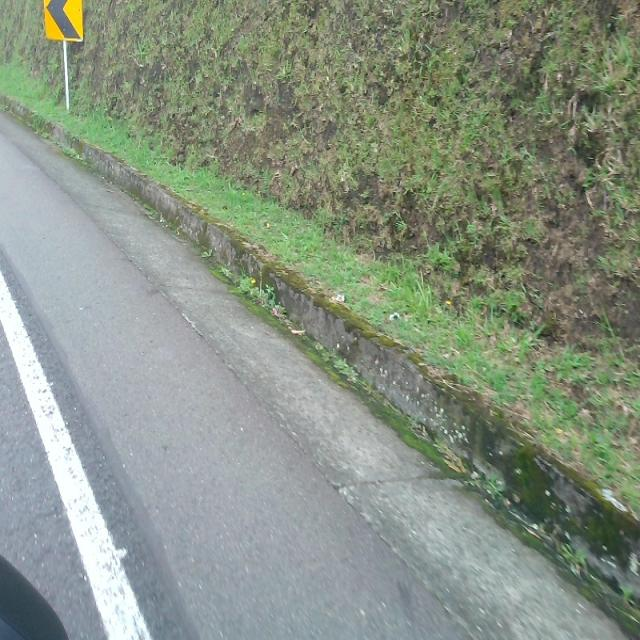DITCH: (1, 84, 638, 638), (1, 97, 638, 638)
